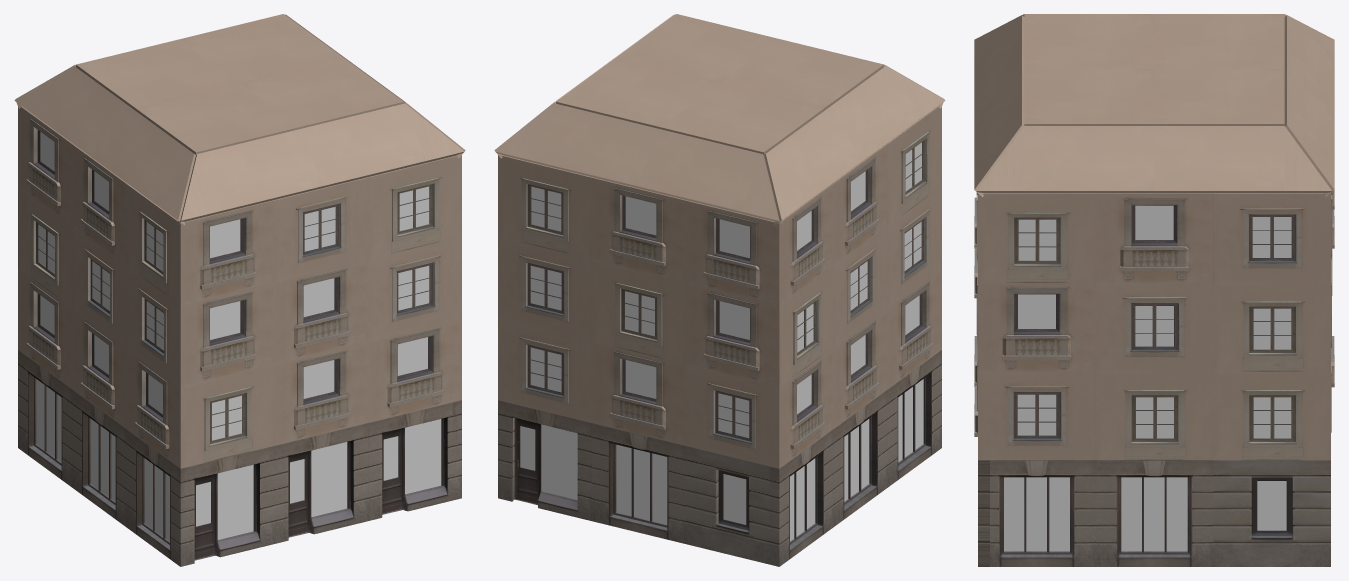
Rendered from edificio2.fbx.
The picture shows the model from 3 angles, left to right: view 1: azimuth 30°, elevation 25°; view 2: azimuth 150°, elevation 25°; view 3: azimuth 270°, elevation 25°; orthographic projection. The views are drawn at different scales.
Parts seen in each view (by area): view 1: Edificio2; view 2: Edificio2; view 3: Edificio2.
Boxes of the visible parts, box(x1,y1,x2,y2) form: Edificio2: box(14, 14, 465, 566); Edificio2: box(494, 14, 945, 566); Edificio2: box(974, 14, 1334, 566).
Bounding box in the file's own units: 613 × 795 × 613.
